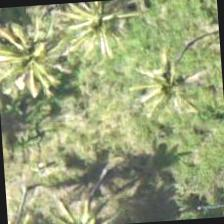Kelapa_Sawit: (59, 122, 155, 218), (128, 42, 223, 139), (0, 2, 82, 99), (65, 0, 160, 71), (2, 138, 78, 223)
